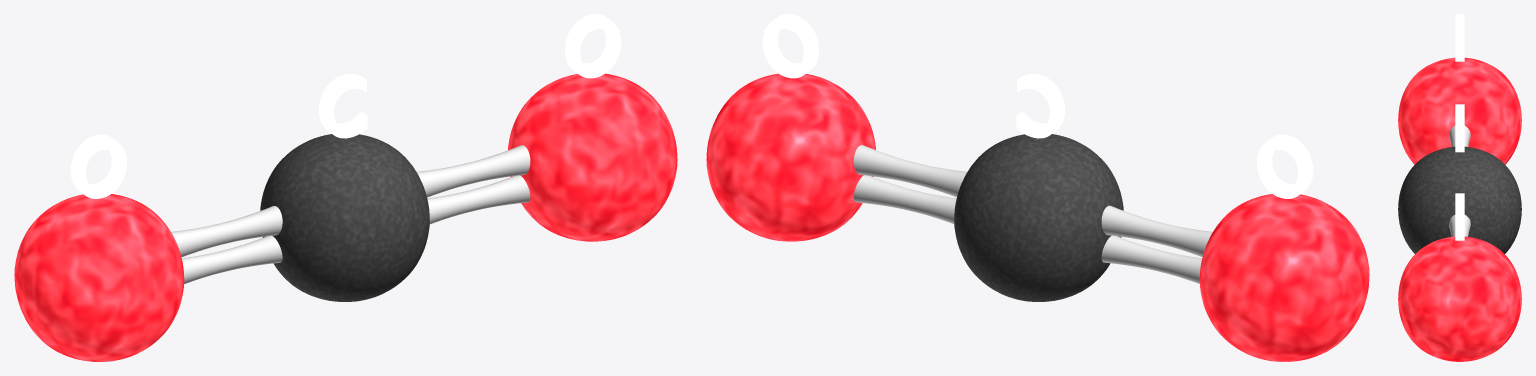
The picture shows the model from 3 angles, left to right: view 1: azimuth 30°, elevation 25°; view 2: azimuth 150°, elevation 25°; view 3: azimuth 270°, elevation 25°; orthographic projection. The views are drawn at different scales.
Parts seen in each view (by area): view 1: Text.006; view 2: Text.006; view 3: Text.006.
Part boxes in pixels (left/top/right/bottom): Text.006: left=14, top=14, right=677, bottom=361; Text.006: left=706, top=14, right=1369, bottom=361; Text.006: left=1398, top=14, right=1521, bottom=361.
Size of the model in its own units: 8.57 by 2.77 by 1.94.
Materials: 4 (2 with a texture image).
